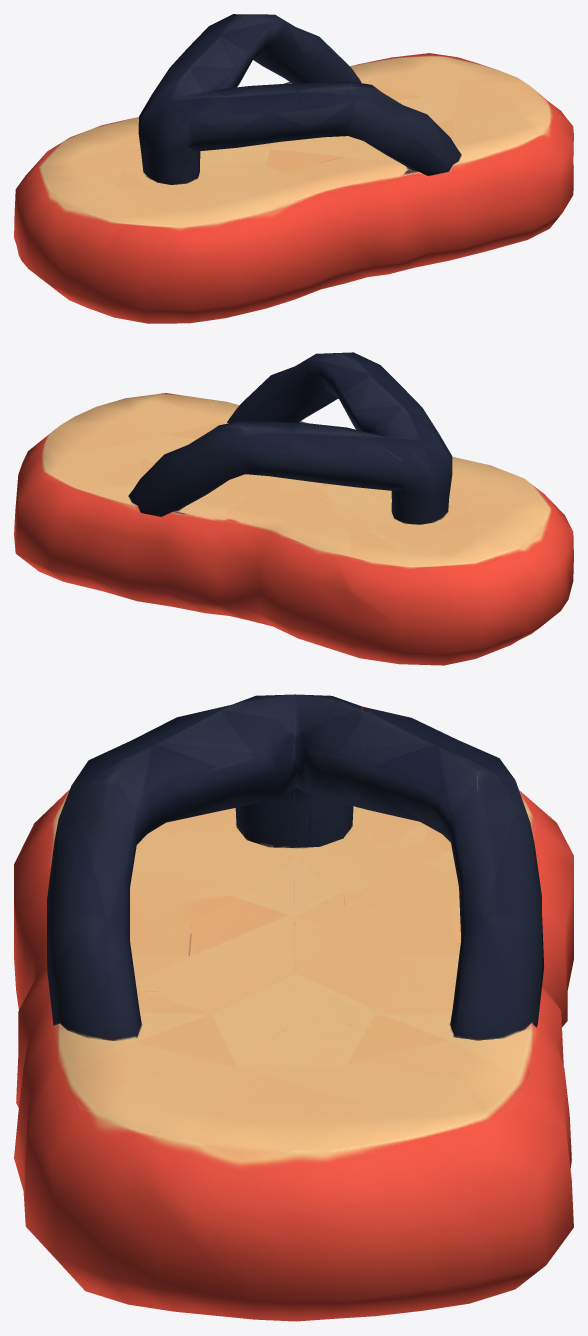
The model's file is test_slippah.glb.
3 renders of one model, top to bottom at view 1: azimuth 30°, elevation 25°; view 2: azimuth 150°, elevation 25°; view 3: azimuth 270°, elevation 25°, orthographic. The views are drawn at different scales.
Size of the model in its own units: 1 by 0.3525 by 0.5137.
1 material, 1 textured.
